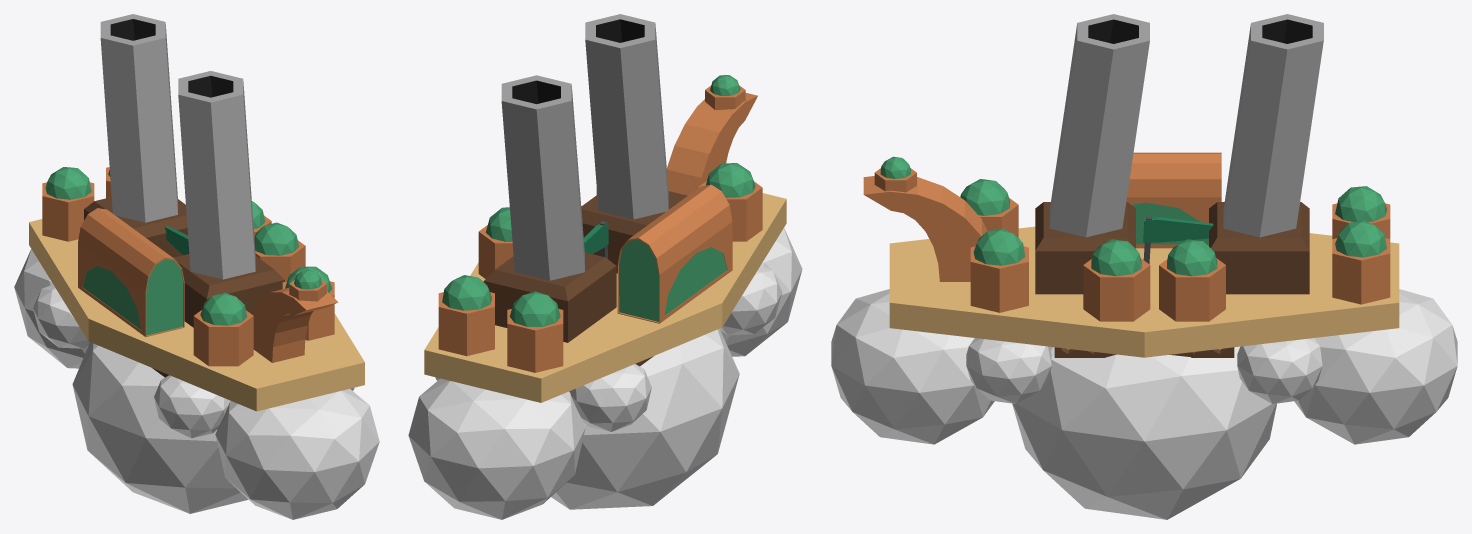
Rendered from cloudship.fbx.
The picture shows the model from 3 angles, left to right: view 1: azimuth 30°, elevation 25°; view 2: azimuth 150°, elevation 25°; view 3: azimuth 270°, elevation 25°; orthographic projection. The views are drawn at different scales.
Visible parts, largest first — view 1: Top, Bags_2, Flag_3; view 2: Top, Bags_2, Flag_3; view 3: Top, Bags_2, Flag_3.
Part boxes in pixels (x1,y1,x2,y2): Top: [29, 14, 364, 411]; Bags_2: [14, 249, 379, 519]; Flag_3: [164, 226, 189, 255]; Top: [424, 14, 786, 402]; Bags_2: [408, 228, 802, 519]; Flag_3: [583, 221, 608, 258]; Top: [863, 14, 1399, 357]; Bags_2: [831, 289, 1457, 519]; Flag_3: [1143, 216, 1213, 264].
Bounding box in the file's own units: 44.64 × 83.92 × 99.74.
